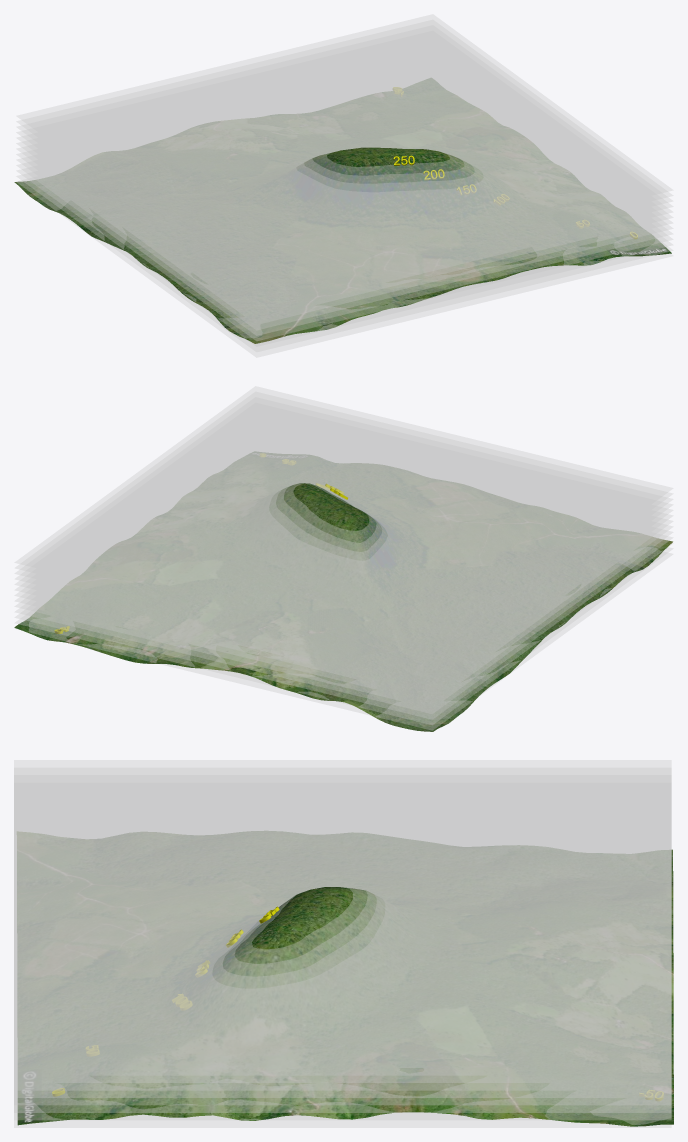
The model's file is Prudentopolisb.glb.
3 renders of one model, top to bottom at view 1: azimuth 30°, elevation 25°; view 2: azimuth 150°, elevation 25°; view 3: azimuth 270°, elevation 25°, orthographic. The views are drawn at different scales.
Visible parts, largest first — view 1: object 1, Location Terrain; view 2: object 1, Location Terrain; view 3: object 1, Location Terrain.
Boxes of the visible parts, box(x1,y1,x2,y2) form: object 1: box(16, 14, 673, 357); Location Terrain: box(14, 78, 671, 343); object 1: box(14, 386, 673, 730); Location Terrain: box(14, 452, 672, 731); object 1: box(14, 760, 671, 1127); Location Terrain: box(17, 831, 673, 1126).
Bounding box in the file's own units: 2000 × 354 × 2000.
Materials: 3 (1 with a texture image).
